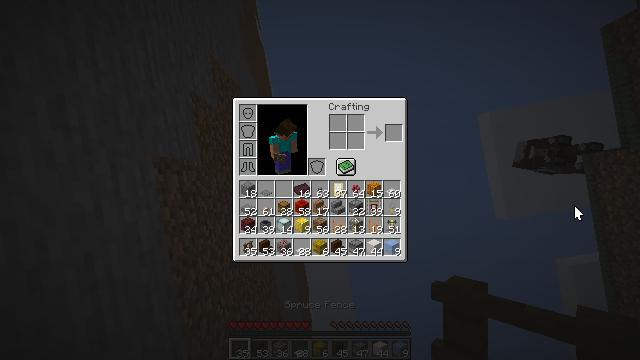cursor: (574, 205, 584, 221)
